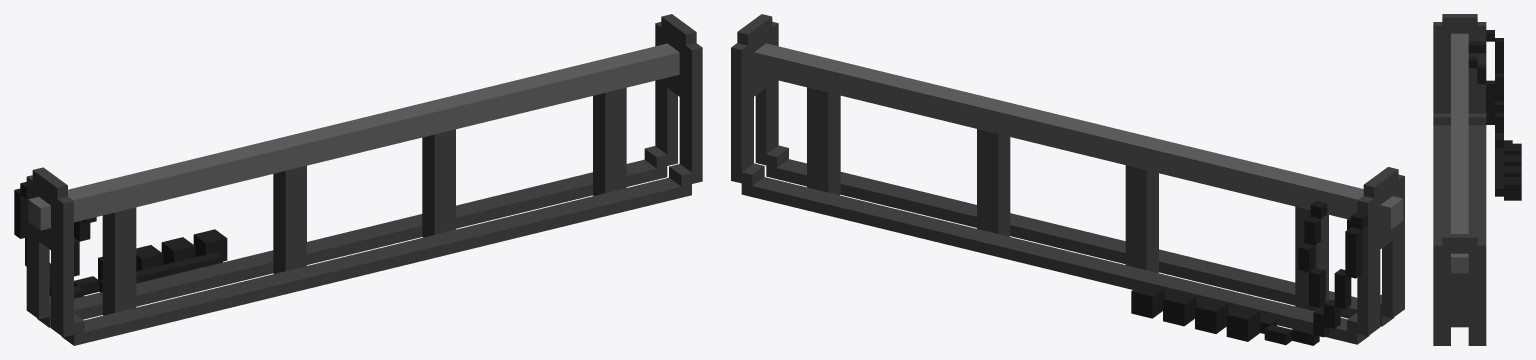
Rendered from SolarPanel0Stand.obj.
The picture shows the model from 3 angles, left to right: view 1: azimuth 30°, elevation 25°; view 2: azimuth 150°, elevation 25°; view 3: azimuth 270°, elevation 25°; orthographic projection. The views are drawn at different scales.
Bounding box in the file's own units: 6.2 × 1.4 × 1.
Materials: 1 (1 with a texture image).
